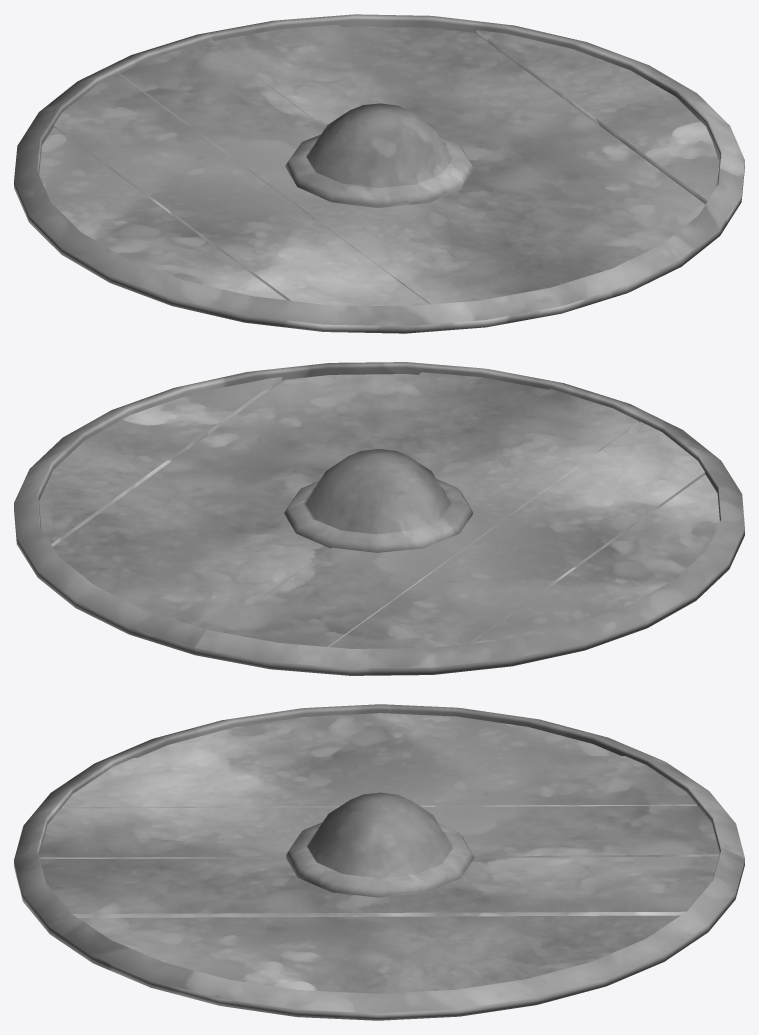
Rendered from SM_Shield_01a.fbx.
3 views of the same model, one above another, from view 1: azimuth 30°, elevation 25°; view 2: azimuth 150°, elevation 25°; view 3: azimuth 270°, elevation 25° (orthographic).
Parts seen in each view (by area): view 1: SM_Shield_01a_LOD0; view 2: SM_Shield_01a_LOD0; view 3: SM_Shield_01a_LOD0.
Boxes of the visible parts, bbox=[...] form: SM_Shield_01a_LOD0: bbox=[14, 14, 744, 333]; SM_Shield_01a_LOD0: bbox=[14, 362, 744, 675]; SM_Shield_01a_LOD0: bbox=[14, 704, 744, 1020].
Size of the model in its own units: 108 by 108 by 15.67.
